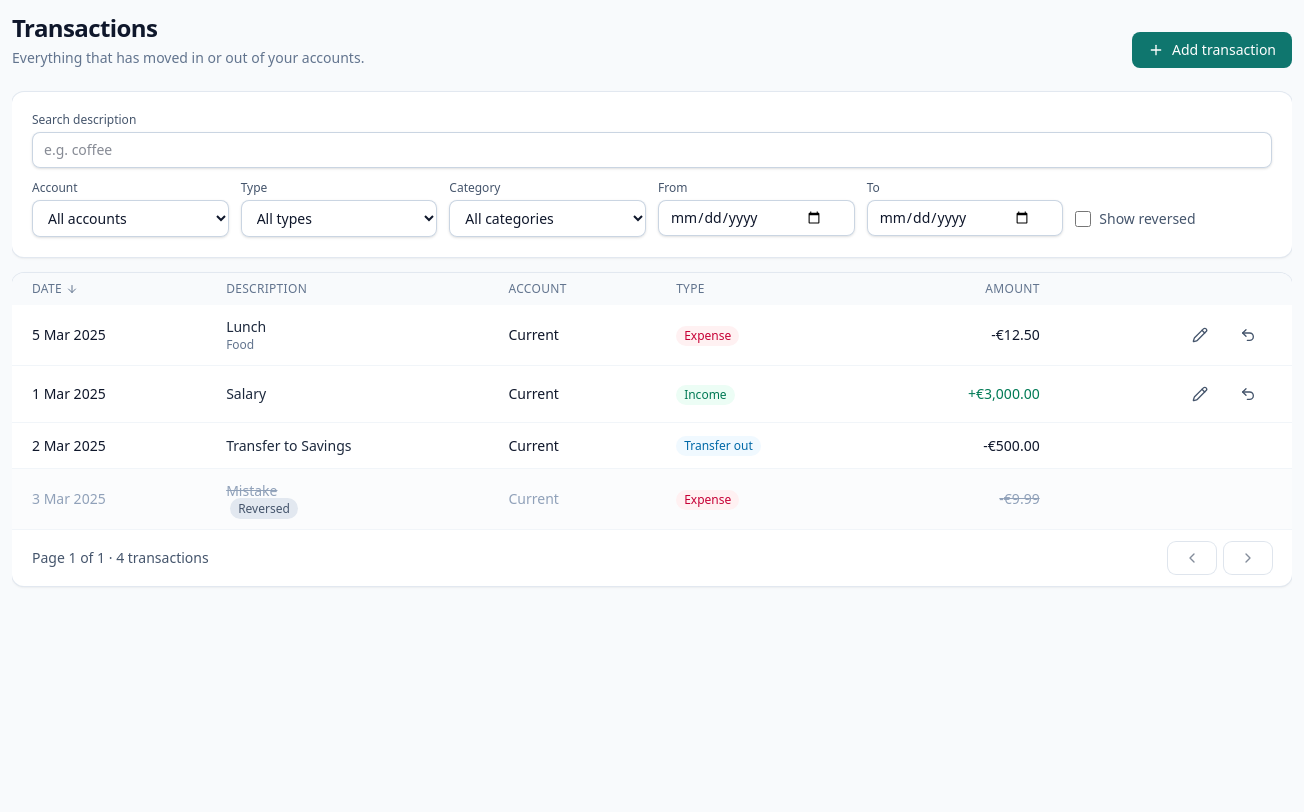
TransactionsPage › requests a new list when a filter changes and offers to clear it
The width and height of the screenshot is (1304, 812).
Expected: the text "Lunch" is shown, [226,317,266,336]
Select "Income" in the dropdown labelled "Type". click: (339, 218)
box: [241,200,437,237]
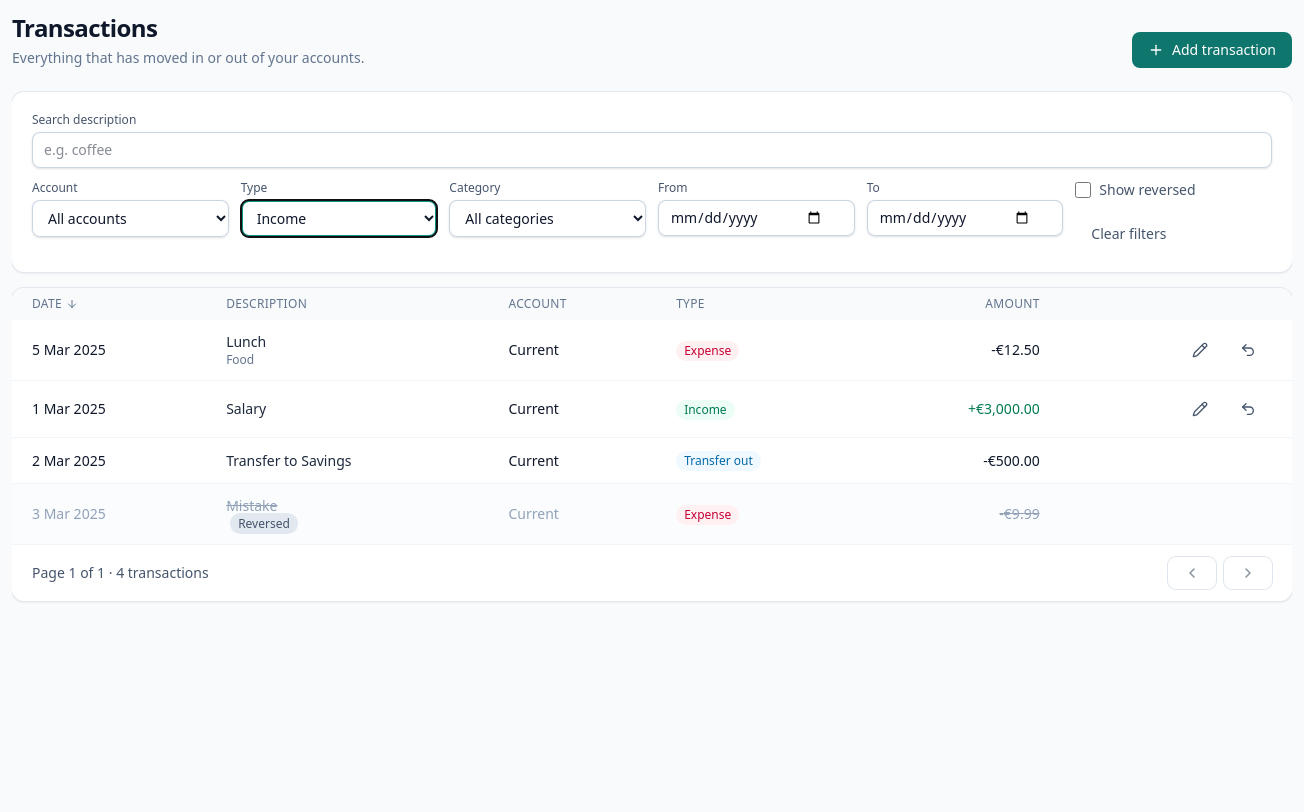
Result: the button "Clear filters" is shown at [1075,216,1182,252]
